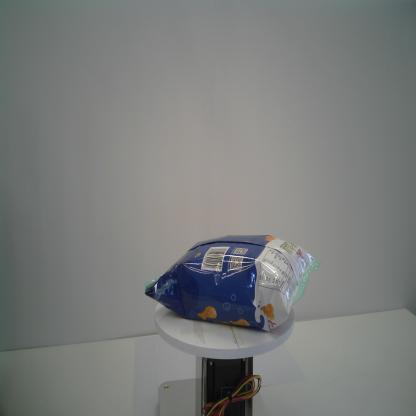Puffed Food: (143, 234, 322, 333)
